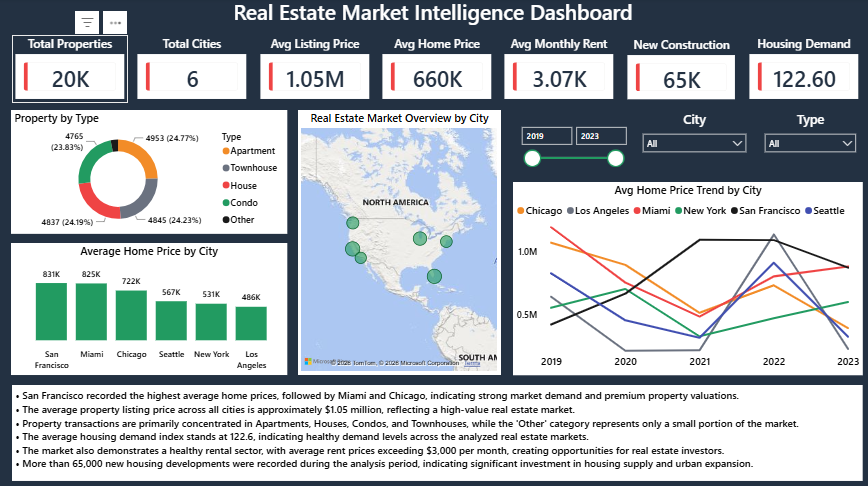

The page's visual inventory and layout, read from the dashboard file:
{"tool":"powerbi","page":{"name":"Real Estate Market Overview","canvas":[1280,720],"ordinal":0},"visuals":[{"type":"cardVisual","title":"Total Properties","fields":{"Data":["Properties_transactions.Total_Properties"]},"box":[19.1,54.4,170.4,99.9],"z":0},{"type":"cardVisual","title":"Avg Listing Price","fields":{"Data":["Properties_transactions.Avg_Listing_Price"]},"box":[379.1,54.4,170.4,99.9],"z":1000},{"type":"cardVisual","title":"Avg Home Price","fields":{"Data":["Properties_transactions.Avg_Home_Price"]},"box":[558.4,54.4,170.4,99.9],"z":2000},{"type":"cardVisual","title":"Avg Monthly Rent","fields":{"Data":["Properties_transactions.Avg_Rent_Price"]},"box":[737.6,54.4,170.4,99.9],"z":3000},{"type":"cardVisual","title":"New Construction","fields":{"Data":["Properties_transactions.Total_New_Construction"]},"box":[918.4,55.8,169,98.4],"z":4000},{"type":"cardVisual","title":"Housing Demand","fields":{"Data":["Properties_transactions.Avg_Housing_Demand"]},"box":[1097.6,54.4,170.4,99.9],"z":5000},{"type":"cardVisual","title":"Total Cities","fields":{"Data":["Properties_transactions.Total_Cities"]},"box":[198.4,54.4,170.4,99.9],"z":6000},{"type":"columnChart","title":"Average Home Price by City","fields":{"Category":["Market_trends.City"],"Y":["Properties_transactions.Avg_Home_Price"]},"box":[17.6,360,405.6,194],"z":7000},{"type":"donutChart","title":"Property by Type","fields":{"Y":["Properties_transactions.Total_Properties"],"Category":["Properties_transactions.Type"]},"box":[17.6,164.6,405.6,182.2],"z":8000},{"type":"map","title":"Real Estate Market Overview by City","fields":{"Category":["Market_trends.City"],"Size":["Properties_transactions.Avg_Home_Price"]},"box":[439.3,164.6,298.3,389.4],"z":9000},{"type":"slicer","title":"Year","fields":{"Values":["Market_trends.Year"]},"box":[755.3,164.6,172,91.1],"z":10000},{"type":"slicer","title":"City","fields":{"Values":["Market_trends.City"]},"box":[935.3,164.6,171.9,91.1],"z":11000},{"type":"slicer","title":"Type","fields":{"Values":["Properties_transactions.Type"]},"box":[1115.3,164.6,154.3,91.1],"z":12000},{"type":"lineChart","title":"Avg Home Price Trend by City","fields":{"Category":["Market_trends.Year"],"Y":["Properties_transactions.Avg_Home_Price"],"Series":["Market_trends.City"]},"box":[755.3,270.4,514.3,283.6],"z":13000},{"type":"textbox","box":[19.1,568.7,1250.4,141.1],"z":14000},{"type":"textbox","title":"Real Estate Market Intelligence Dashboard","box":[339.5,0,601,42.6],"z":14001}]}

Visuals, with their boxes in screenshot pixels (x1, y1, x2, y2), scaled from the page's 1280x720 canvas onto the 868x486 screenshot:
"Total Properties" cardVisual: Rect(13, 37, 129, 104)
"Avg Listing Price" cardVisual: Rect(257, 37, 373, 104)
"Avg Home Price" cardVisual: Rect(379, 37, 494, 104)
"Avg Monthly Rent" cardVisual: Rect(500, 37, 616, 104)
"New Construction" cardVisual: Rect(623, 38, 737, 104)
"Housing Demand" cardVisual: Rect(744, 37, 860, 104)
"Total Cities" cardVisual: Rect(135, 37, 250, 104)
"Average Home Price by City" columnChart: Rect(12, 243, 287, 374)
"Property by Type" donutChart: Rect(12, 111, 287, 234)
"Real Estate Market Overview by City" map: Rect(298, 111, 500, 374)
"Year" slicer: Rect(512, 111, 629, 173)
"City" slicer: Rect(634, 111, 751, 173)
"Type" slicer: Rect(756, 111, 861, 173)
"Avg Home Price Trend by City" lineChart: Rect(512, 183, 861, 374)
textbox: Rect(13, 384, 861, 479)
"Real Estate Market Intelligence Dashboard" textbox: Rect(230, 0, 638, 29)
